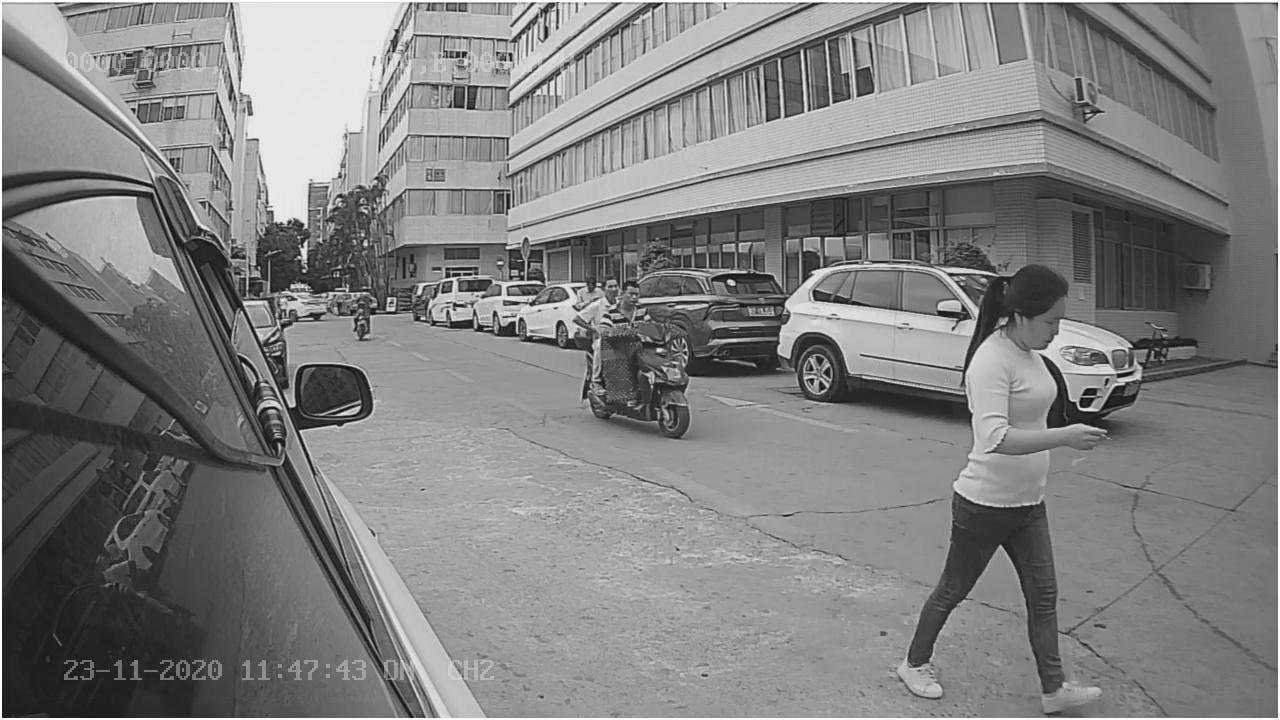person: (892, 252, 1109, 710)
